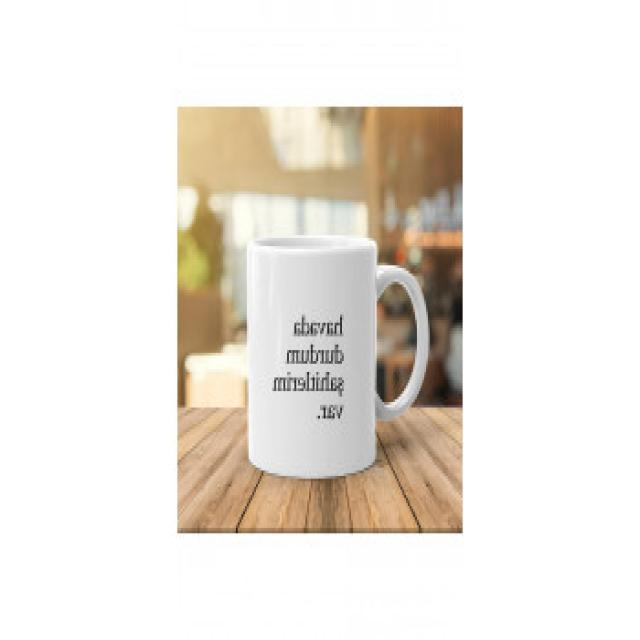Coffee Mug: (246, 229, 432, 482)
